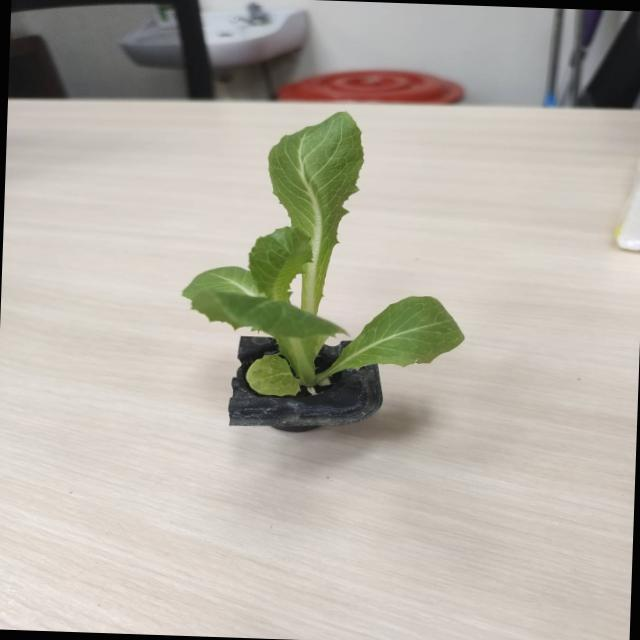Lettuce-Not-Ready-to-Harvest: (183, 112, 463, 395)
